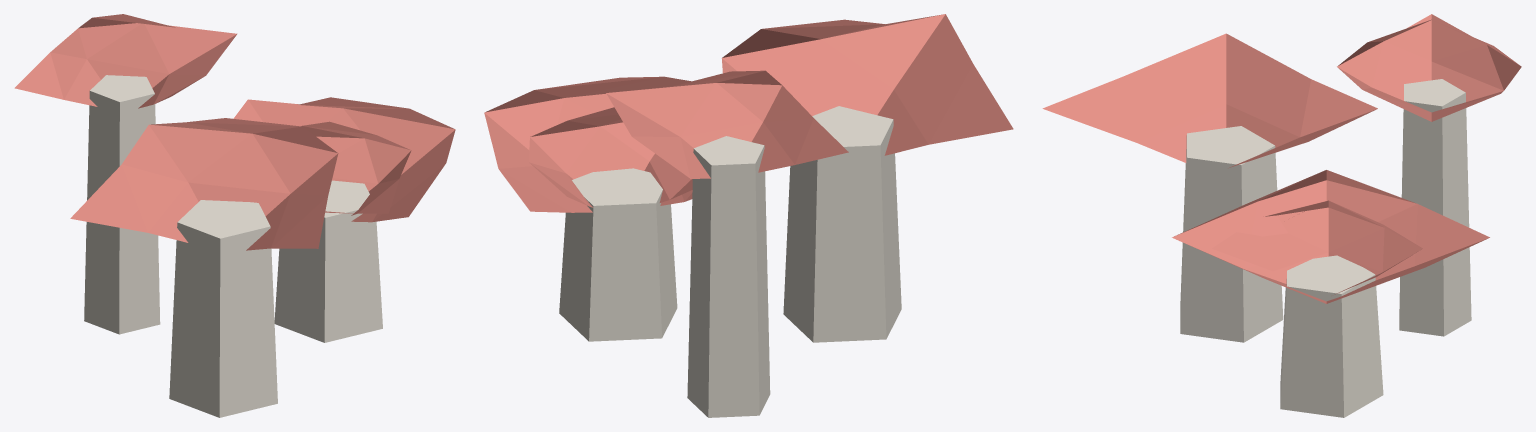
Rendered from mushroom_v10.glb.
The picture shows the model from 3 angles, left to right: view 1: azimuth 30°, elevation 25°; view 2: azimuth 150°, elevation 25°; view 3: azimuth 270°, elevation 25°; orthographic projection. The views are drawn at different scales.
Parts seen in each view (by area): view 1: lod0; view 2: lod0; view 3: lod0.
Part boxes in pixels (<box>): lod0: <box>14,14,455,417</box>; lod0: <box>484,14,1013,417</box>; lod0: <box>1042,14,1521,417</box>.
Size of what is drawn, in the model's own units: 0.6749 by 0.449 by 0.6486.
